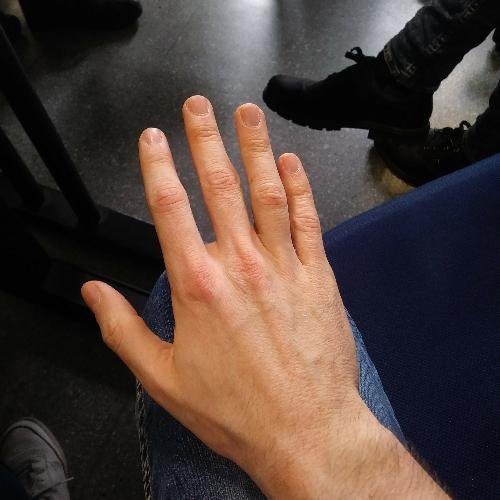paper: (70, 84, 412, 490)
